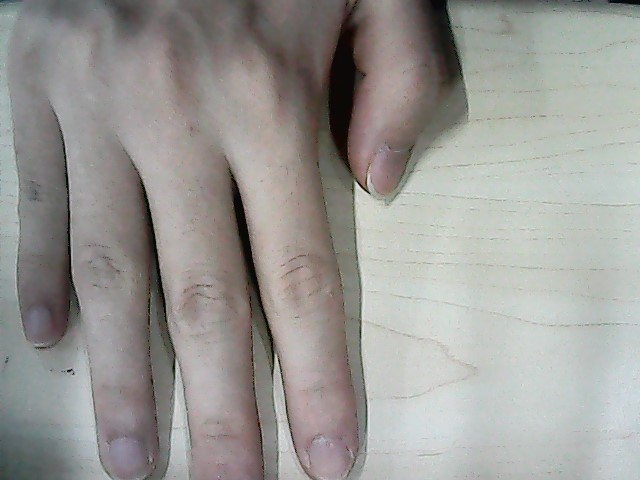nail: (367, 144, 408, 203), (307, 436, 353, 480), (107, 441, 151, 480), (22, 306, 55, 348)
